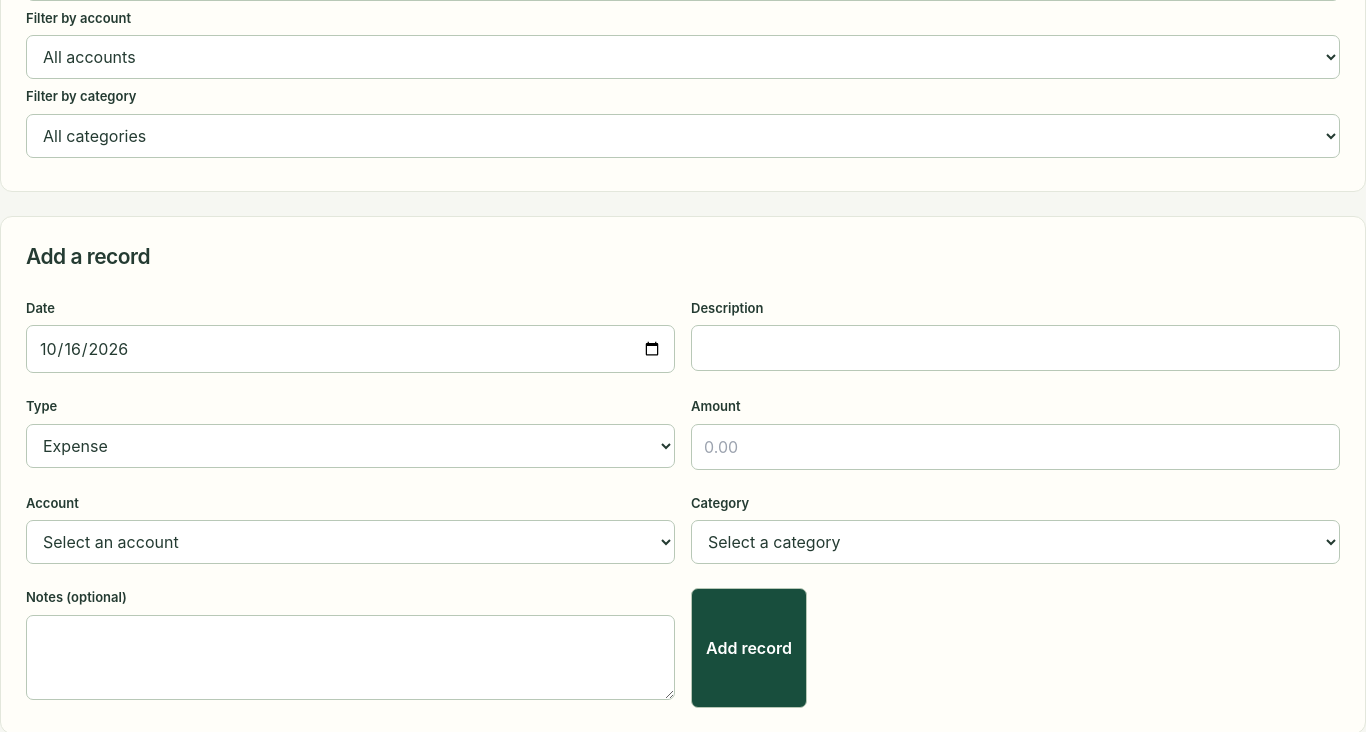
Scenario: RecordsPage: entry form, filters, edit, and delete › creating a transaction sends exact integer cents and reloads the list
This screenshot has width=1366, height=732.
(page scrolled)
In the field labelled "Description": (1016, 348) [691,326,1340,372], type "Coffee"
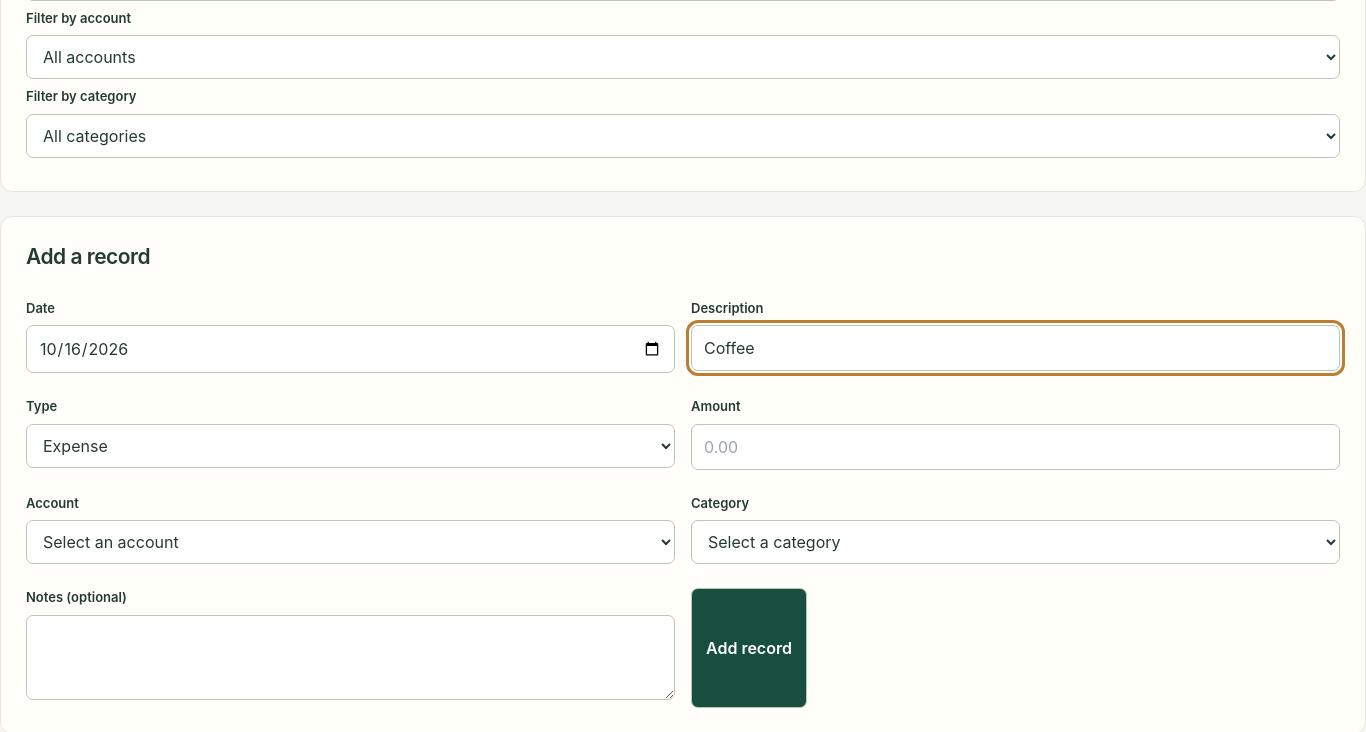
Select "Checking" in the dropdown labelled "Account": (350, 542) [26,520,675,564]
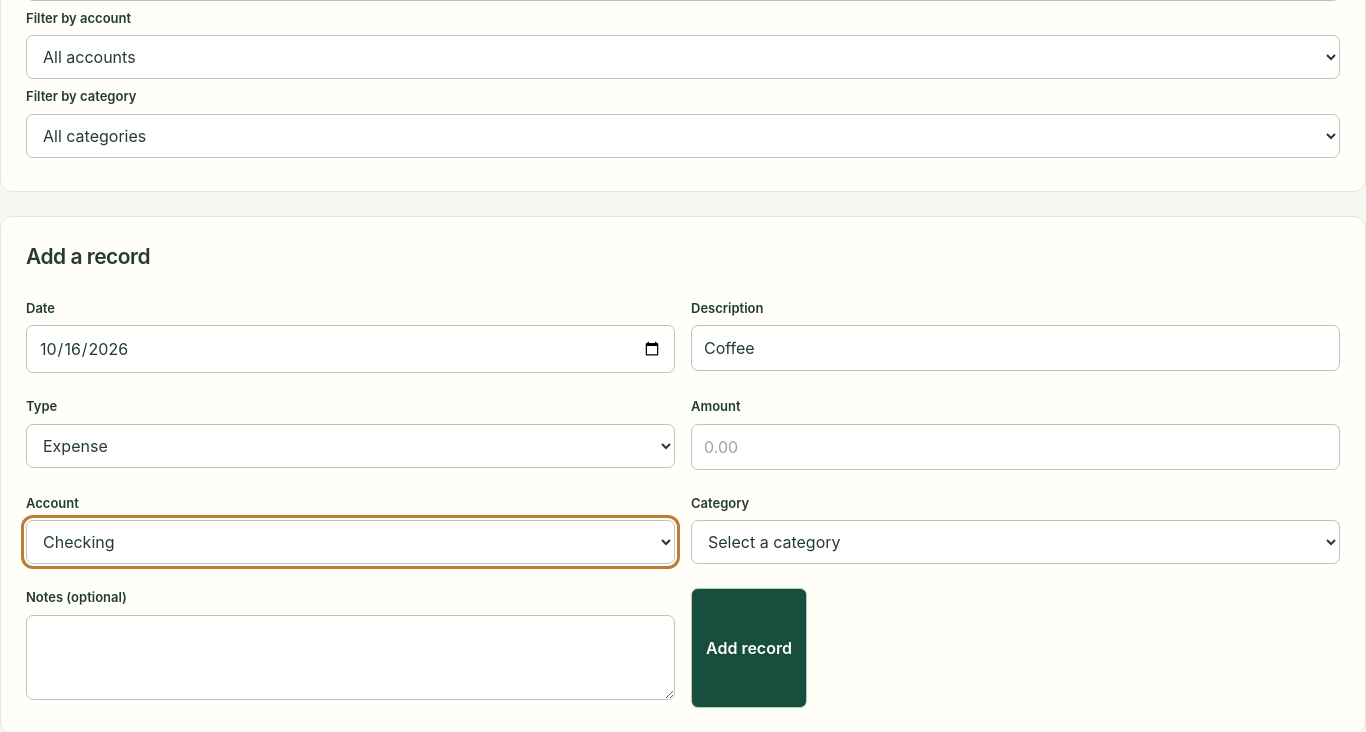
Select "Dining" in the dropdown labelled "Category": (1016, 542) [691,520,1340,564]
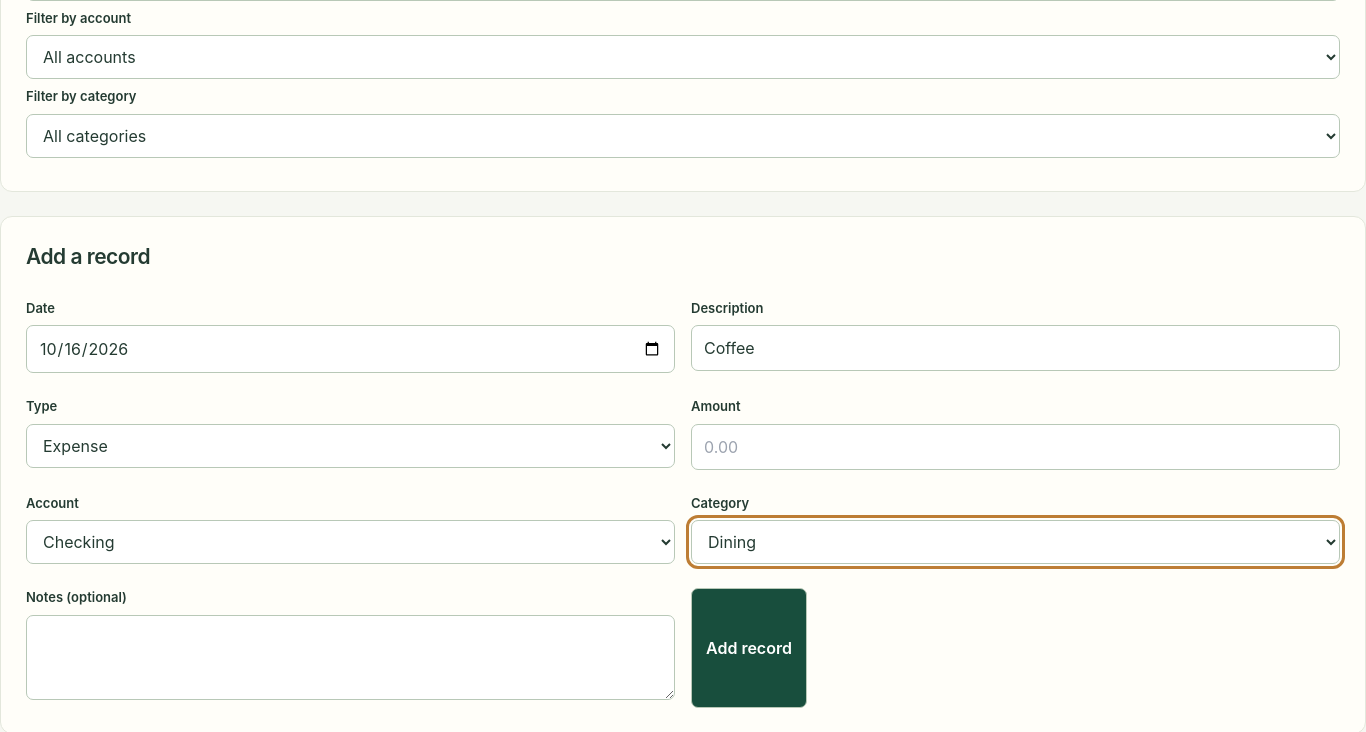
In the field labelled "Amount": (1016, 447) [691,424,1340,470], type "4.50"
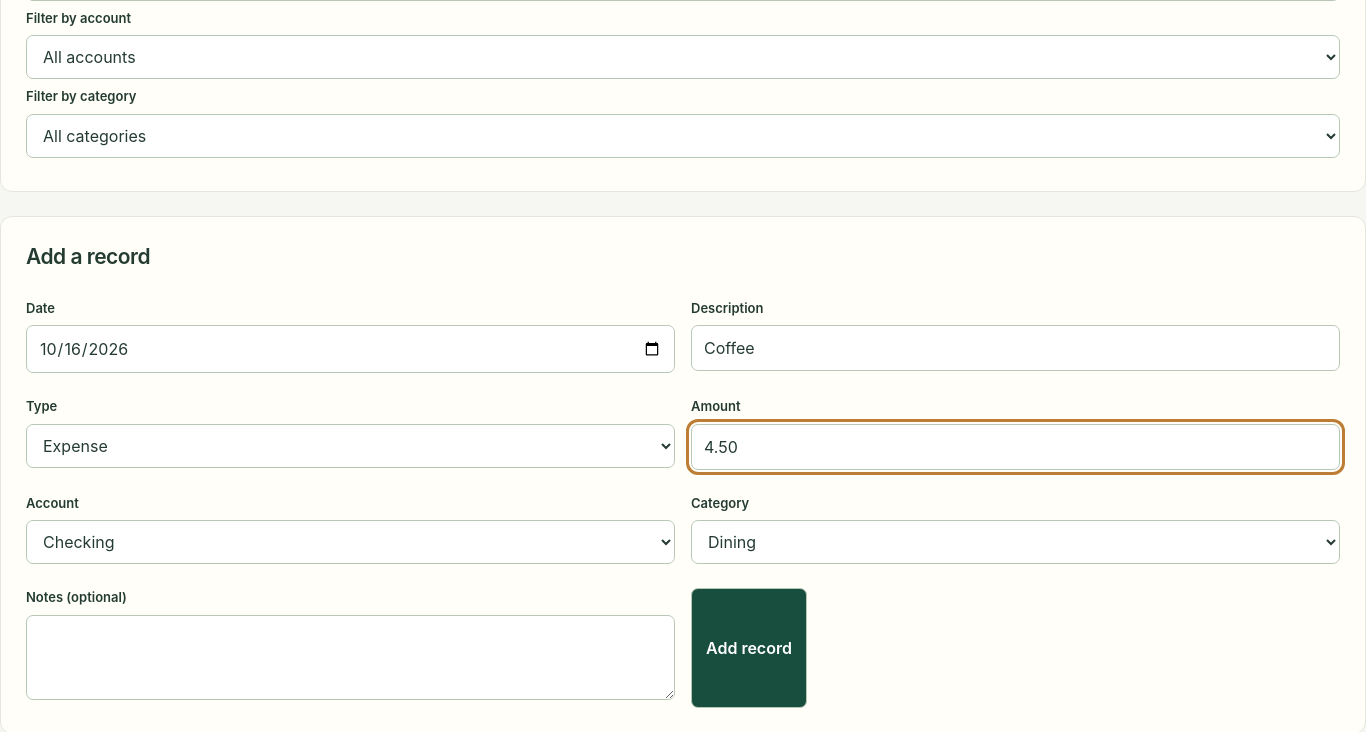
Click the button "Add record": click(749, 648) [691,588,807,708]
(page scrolled)
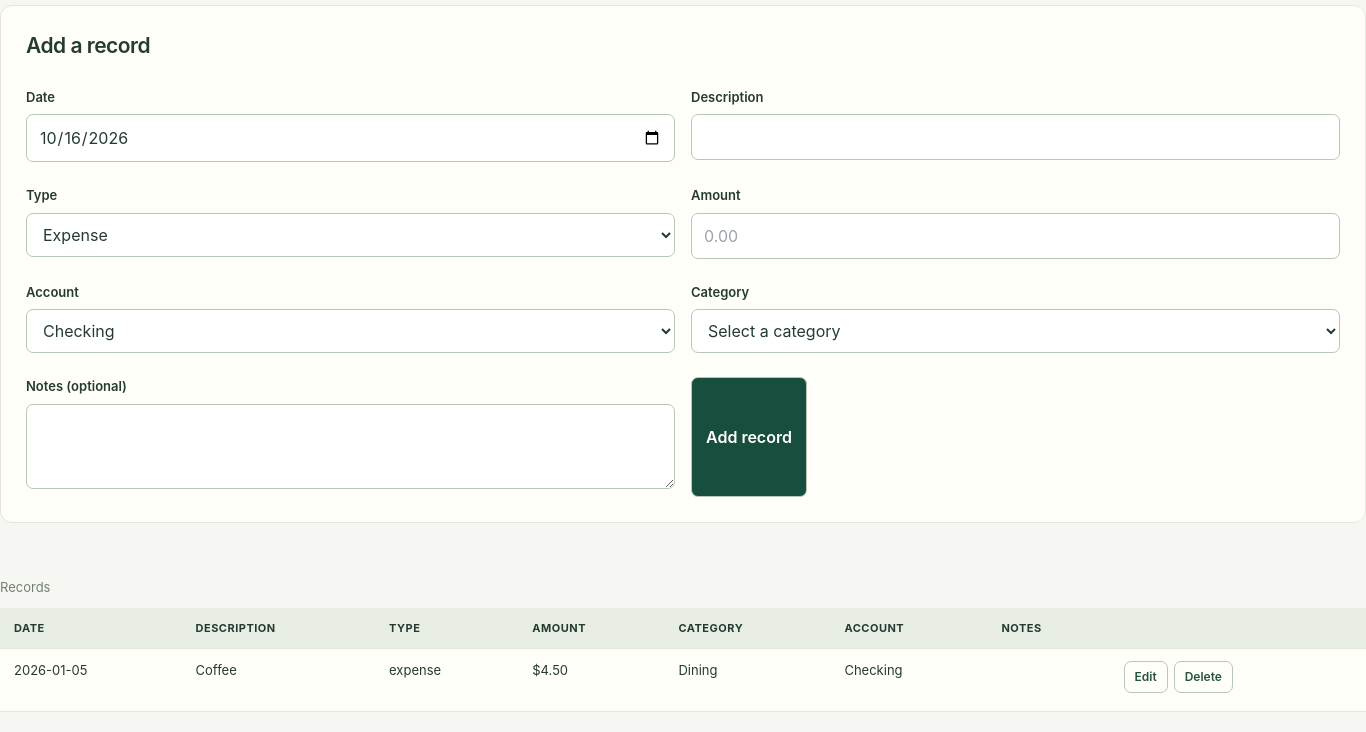
Now the text "Coffee" is shown, box [182,649,375,712]
